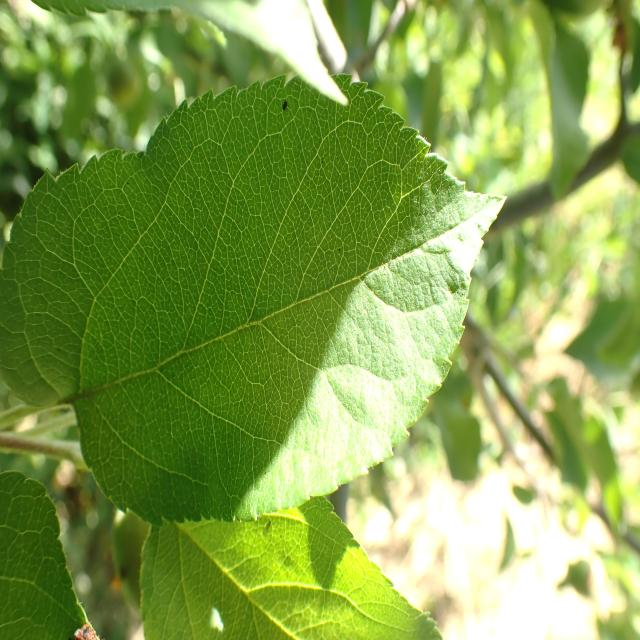healthy: (1, 73, 507, 527), (141, 493, 445, 639), (0, 470, 98, 640)
